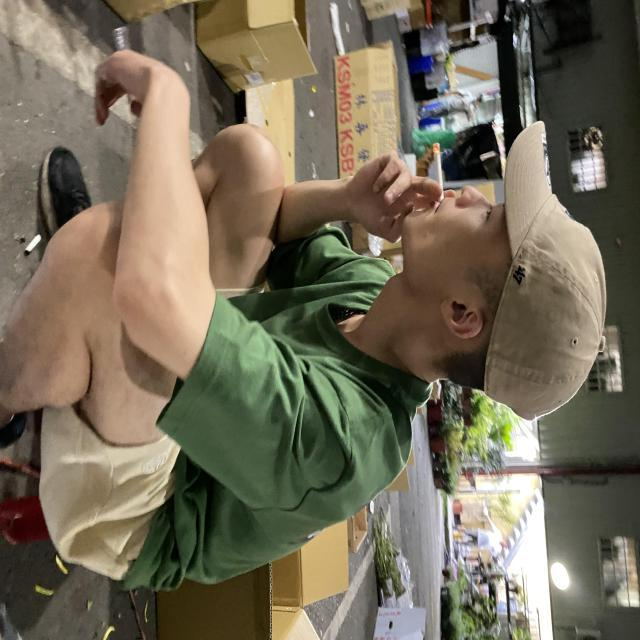cigarette: (424, 132, 454, 225)
